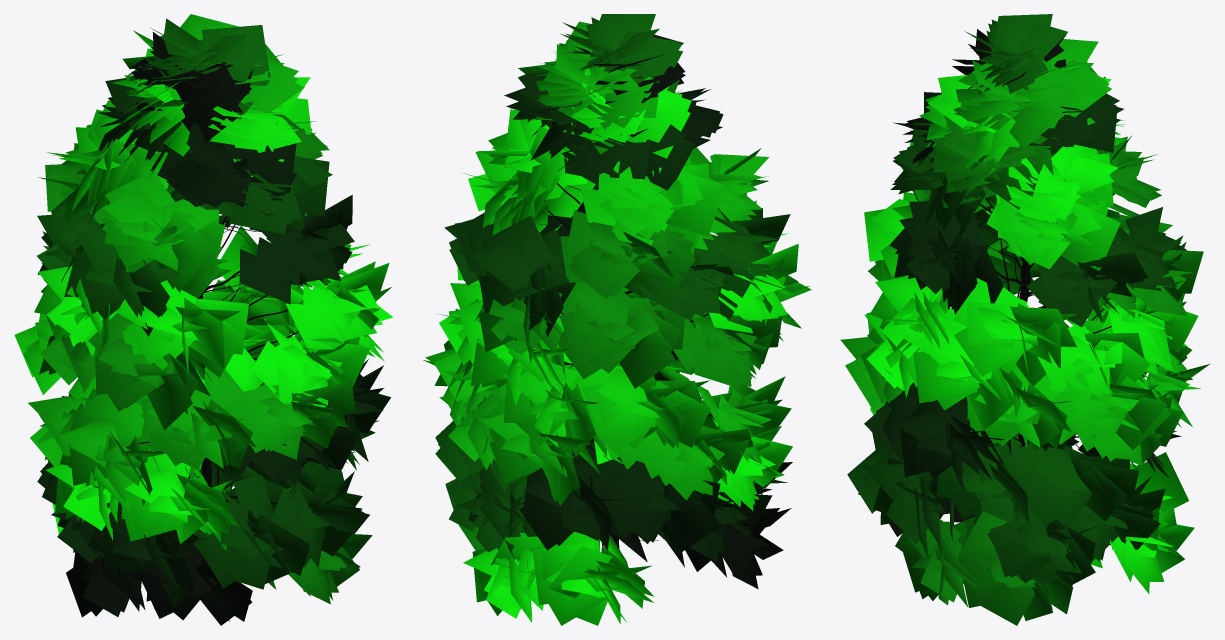
The model's file is SilverLime_4.fbx.
3 views of the same model, side by side, from view 1: azimuth 30°, elevation 25°; view 2: azimuth 150°, elevation 25°; view 3: azimuth 270°, elevation 25° (orthographic). The views are drawn at different scales.
Visible parts, largest first — view 1: SilverLime_4; view 2: SilverLime_4; view 3: SilverLime_4.
Part boxes in pixels (x1,y1,x2,y2): SilverLime_4: [14, 14, 392, 625]; SilverLime_4: [423, 14, 811, 625]; SilverLime_4: [840, 14, 1209, 625].
Bounding box in the file's own units: 579 × 945 × 585.
